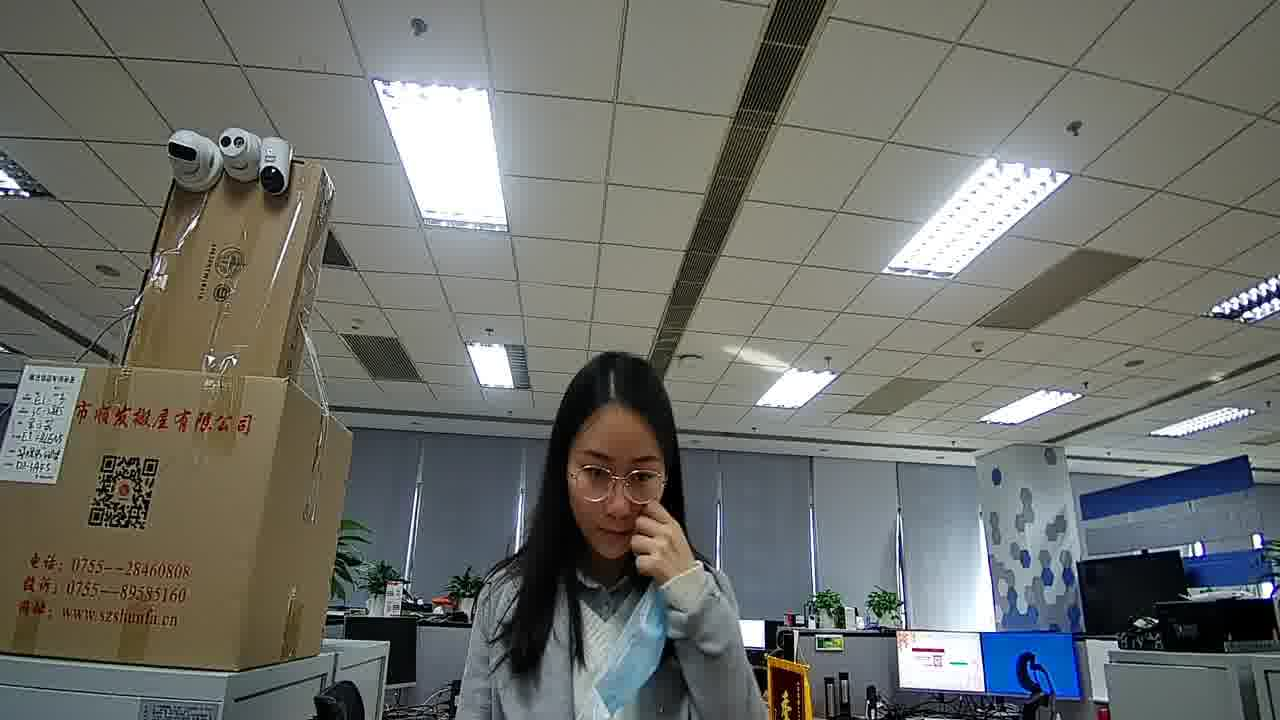face: (565, 409, 672, 564)
person: (471, 345, 732, 663)
